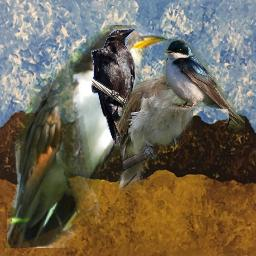Crow: (91, 27, 137, 147)
Cuckoo: (7, 25, 168, 248), (115, 69, 199, 190)
Swallow: (163, 39, 245, 132)
